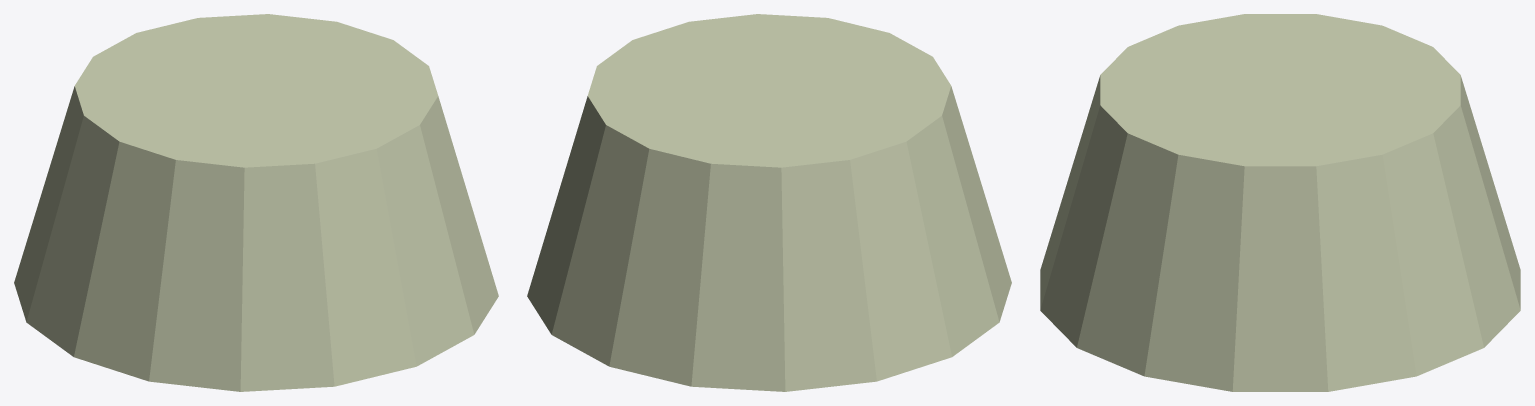
The model's file is tucana_adapter_s1_s0p5_1_collider.obj.
3 renders of one model, left to right at view 1: azimuth 30°, elevation 25°; view 2: azimuth 150°, elevation 25°; view 3: azimuth 270°, elevation 25°, orthographic.
Parts seen in each view (by area): view 1: tucana_adapter_s1_s0p5_1_collider; view 2: tucana_adapter_s1_s0p5_1_collider; view 3: tucana_adapter_s1_s0p5_1_collider.
Boxes of the visible parts, box(x1,y1,x2,y2) form: tucana_adapter_s1_s0p5_1_collider: box(14, 14, 498, 391); tucana_adapter_s1_s0p5_1_collider: box(527, 14, 1011, 391); tucana_adapter_s1_s0p5_1_collider: box(1040, 14, 1520, 391).
Size of the model in its own units: 1.25 by 0.575 by 1.25.
